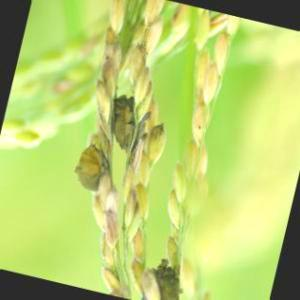Leaf_Scald: (110, 96, 146, 148), (155, 255, 181, 300), (77, 145, 104, 187)
